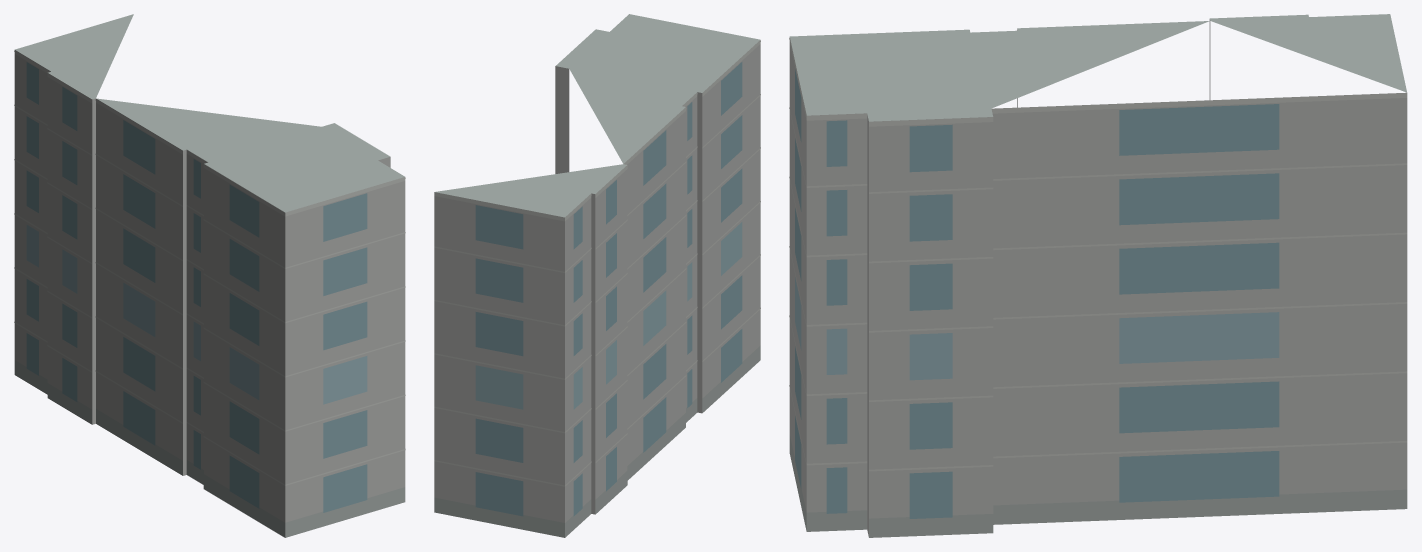
File: survey-upis-32638271.glb
3 renders of one model, left to right at view 1: azimuth 30°, elevation 25°; view 2: azimuth 150°, elevation 25°; view 3: azimuth 270°, elevation 25°, orthographic. The views are drawn at different scales.
Parts seen in each view (by area): view 1: survey-upis-32638271.tmp; view 2: survey-upis-32638271.tmp; view 3: survey-upis-32638271.tmp.
Part boxes in pixels (left/top/right/bottom): survey-upis-32638271.tmp: left=14, top=14, right=405, bottom=537; survey-upis-32638271.tmp: left=434, top=14, right=760, bottom=537; survey-upis-32638271.tmp: left=789, top=14, right=1407, bottom=537.
Bounding box in the file's own units: 10.98 × 19.75 × 26.58.
